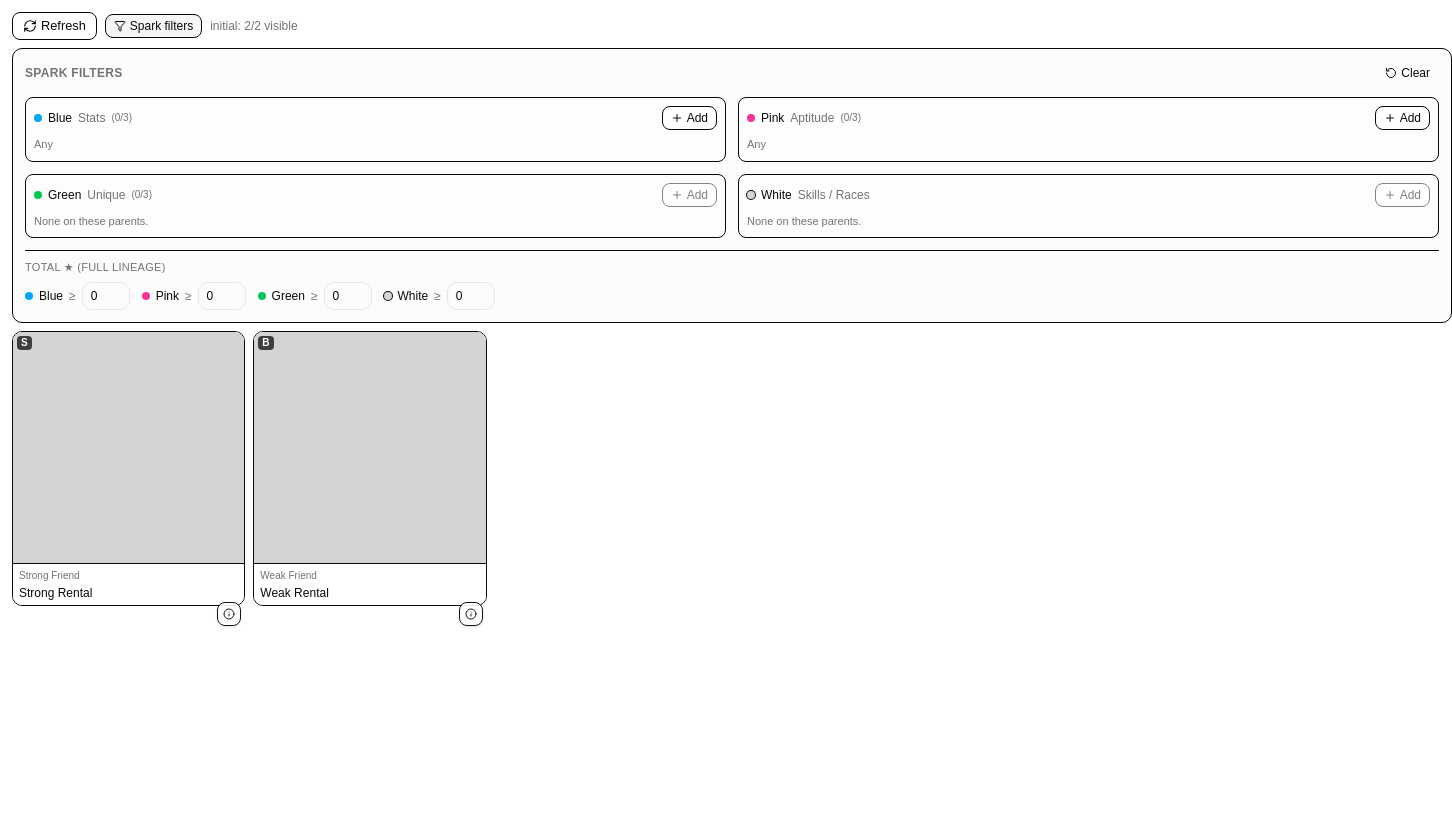
Test: FriendParentGrid spark filter › renders friend parents and narrows them by spark total
Replace the text in the number field with test id "spark-minBlue" with "5" at x=106, y=296, box 82,282 -> 130,310
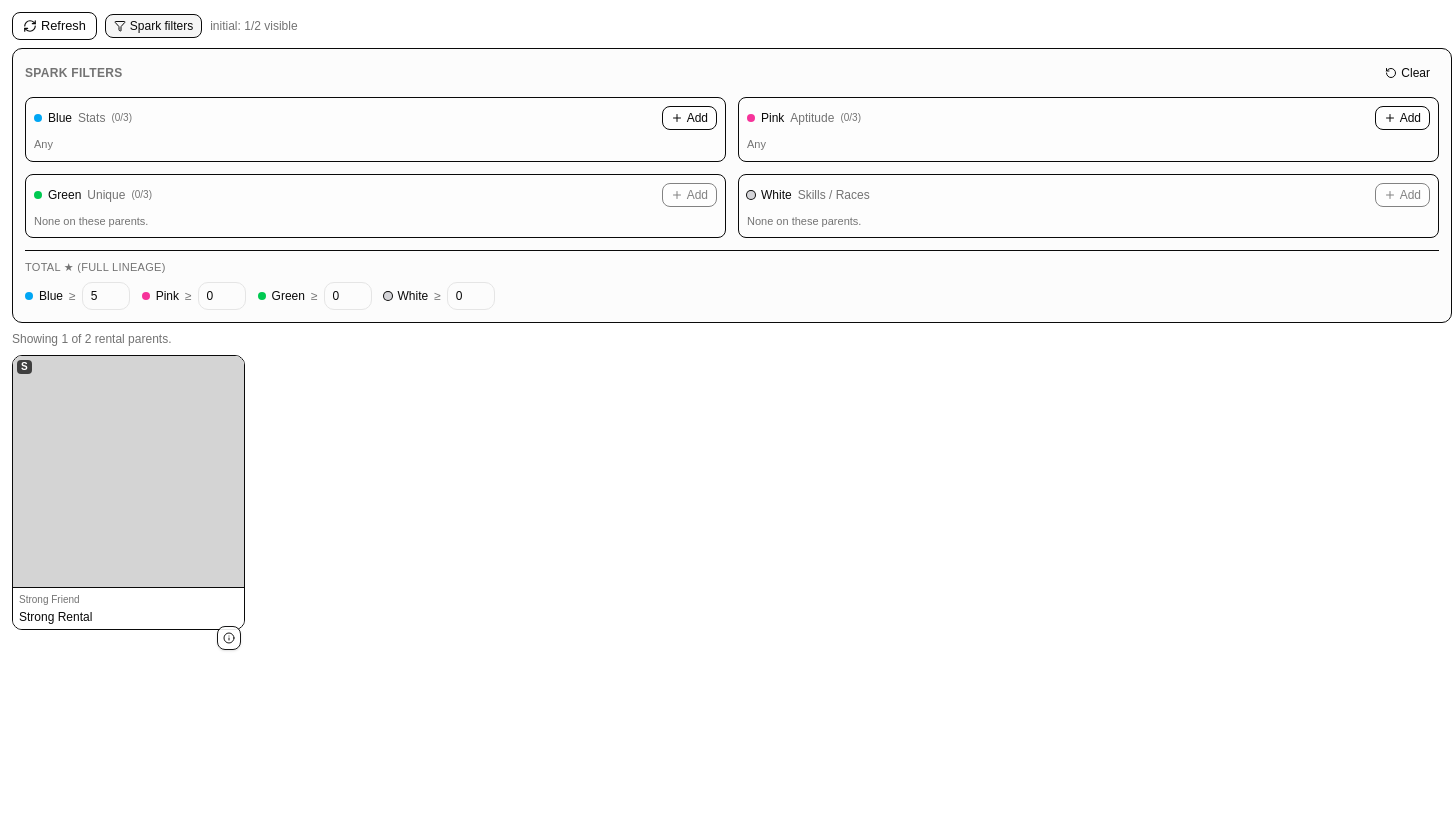
Result: the button with test id "rental-card-weak" is gone
Result: the text "Showing 1 of 2 rental parents." is shown at 12,332 -> 172,346
